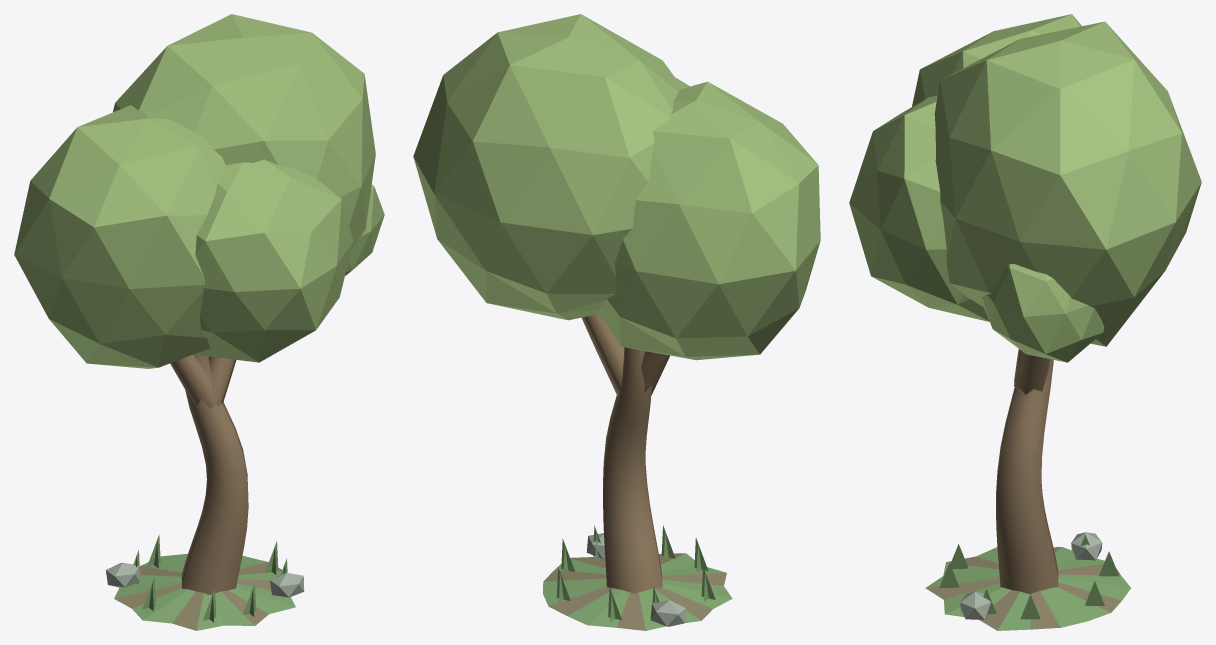
File: broadleaf_lime.glb
3 views of the same model, side by side, from view 1: azimuth 30°, elevation 25°; view 2: azimuth 150°, elevation 25°; view 3: azimuth 270°, elevation 25° (orthographic). The views are drawn at different scales.
Parts seen in each view (by area): view 1: VR faceted leaf cluster; view 2: VR faceted leaf cluster; view 3: VR faceted leaf cluster.
Part boxes in pixels (x1=…): VR faceted leaf cluster: x1=14, y1=14, x2=384, y2=630; VR faceted leaf cluster: x1=413, y1=14, x2=820, y2=630; VR faceted leaf cluster: x1=849, y1=14, x2=1201, y2=630.
Bounding box in the file's own units: 5.16 × 7.51 × 4.12.
